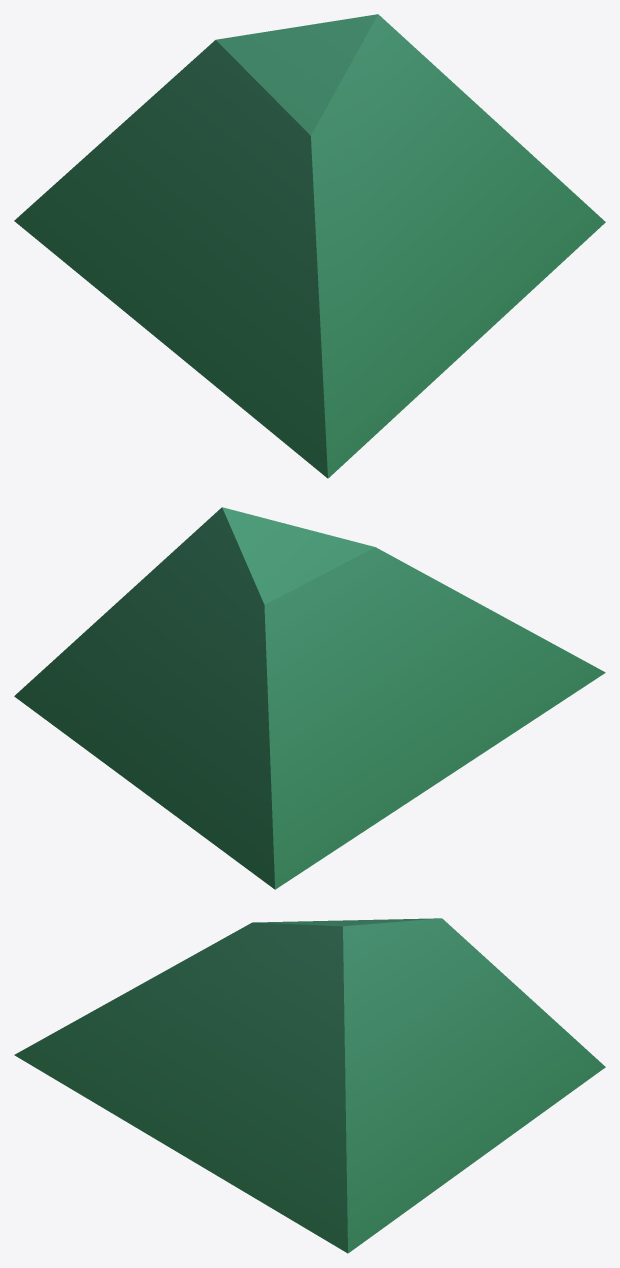
File: MountainFar002.glb
3 renders of one model, top to bottom at view 1: azimuth 30°, elevation 25°; view 2: azimuth 150°, elevation 25°; view 3: azimuth 270°, elevation 25°, orthographic. The views are drawn at different scales.
Parts seen in each view (by area): view 1: MountainFar002; view 2: MountainFar002; view 3: MountainFar002.
Part boxes in pixels (x1=…): MountainFar002: x1=14, y1=14, x2=605, y2=478; MountainFar002: x1=14, y1=507, x2=605, y2=889; MountainFar002: x1=14, y1=918, x2=605, y2=1253.
Size of the model in its own units: 872 by 471 by 1098.
1 material, 1 textured.
